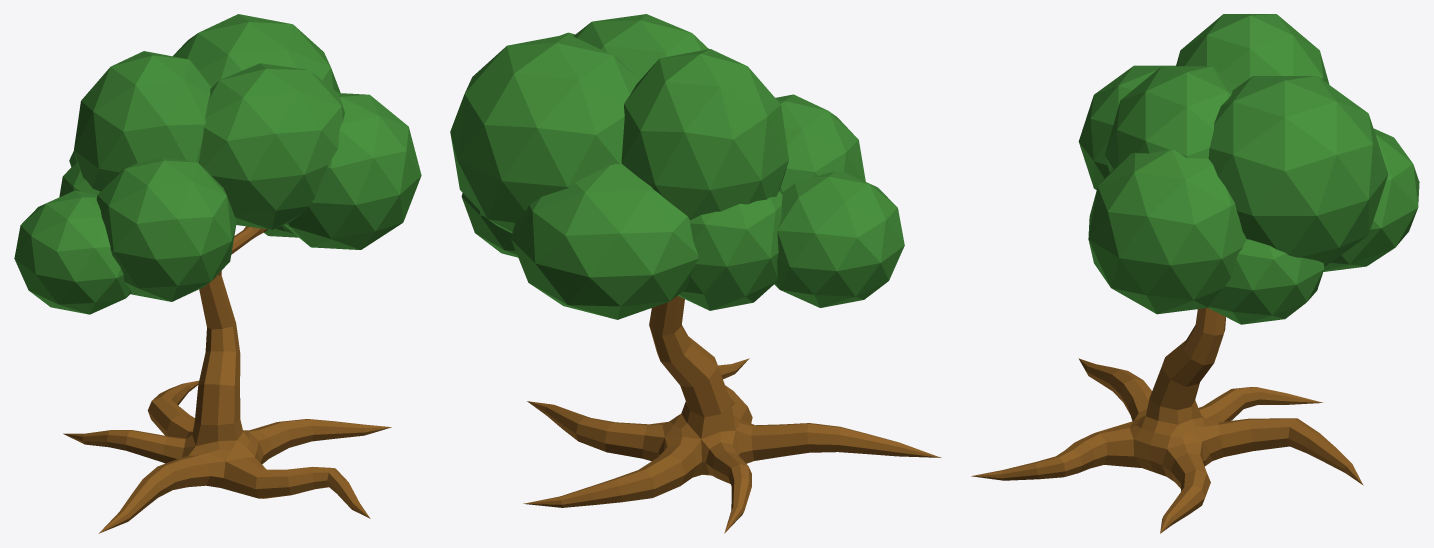
File: NormalTree.glb
3 renders of one model, left to right at view 1: azimuth 30°, elevation 25°; view 2: azimuth 150°, elevation 25°; view 3: azimuth 270°, elevation 25°, orthographic. The views are drawn at different scales.
Parts seen in each view (by area): view 1: Normal_tree; view 2: Normal_tree; view 3: Normal_tree.
Boxes of the visible parts, left/top/right/bottom form: Normal_tree: left=14, top=14, right=421, bottom=533; Normal_tree: left=450, top=14, right=941, bottom=533; Normal_tree: left=971, top=14, right=1419, bottom=533.
Size of the model in its own units: 11.34 by 11.74 by 11.11.
